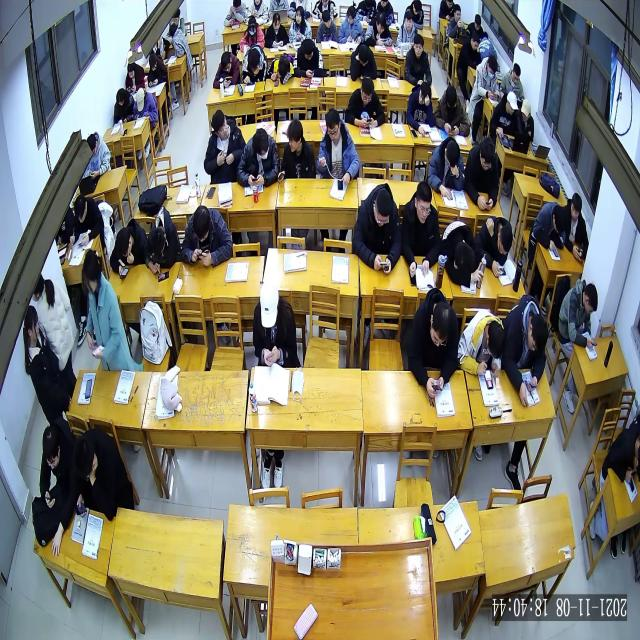bow: (440, 216, 482, 287), (144, 205, 180, 277), (476, 211, 514, 278), (109, 219, 147, 281), (282, 118, 316, 178), (529, 200, 566, 252), (349, 40, 378, 79), (213, 48, 240, 89), (364, 9, 392, 46), (266, 52, 295, 84), (222, 1, 247, 27)
down: (72, 434, 97, 485), (428, 300, 452, 348), (259, 277, 280, 329), (42, 421, 62, 473), (527, 311, 549, 352), (486, 318, 506, 361), (372, 189, 392, 229), (192, 205, 211, 244), (324, 106, 341, 142), (496, 224, 513, 258), (115, 227, 133, 259), (149, 226, 167, 258), (479, 136, 495, 172), (583, 282, 599, 318), (444, 139, 461, 170), (551, 204, 566, 236), (73, 194, 88, 225), (360, 77, 375, 106), (445, 84, 459, 112), (86, 132, 99, 160), (358, 42, 371, 68), (248, 46, 260, 74), (570, 192, 582, 220), (506, 89, 518, 117), (375, 9, 387, 36), (277, 56, 291, 79), (486, 55, 498, 81), (302, 38, 314, 63), (520, 96, 532, 121), (220, 49, 232, 72), (135, 88, 146, 112), (512, 63, 522, 86), (115, 86, 126, 106), (470, 30, 480, 50), (248, 17, 258, 36), (126, 60, 135, 80), (272, 10, 281, 30), (322, 10, 331, 30), (474, 10, 482, 30), (149, 51, 157, 70)
lookup: (414, 180, 433, 227), (413, 32, 424, 56), (404, 10, 414, 30), (295, 4, 304, 24), (453, 2, 462, 21)
sit: (81, 245, 134, 377), (404, 284, 460, 399), (71, 426, 134, 523), (22, 303, 72, 424), (38, 412, 78, 556), (501, 290, 549, 406), (351, 181, 402, 274), (251, 276, 301, 369), (399, 178, 441, 277), (457, 305, 507, 381), (180, 201, 233, 271), (316, 108, 361, 186), (202, 108, 246, 184), (557, 278, 600, 351), (464, 134, 501, 210), (236, 125, 280, 187), (427, 132, 466, 200), (601, 421, 640, 483), (344, 76, 386, 128), (433, 81, 471, 135), (69, 192, 104, 248), (564, 192, 589, 263), (406, 80, 434, 136), (488, 91, 519, 140), (404, 33, 432, 87), (85, 130, 112, 180), (474, 52, 500, 101), (241, 41, 268, 86), (293, 39, 324, 78), (337, 4, 365, 46), (456, 30, 482, 72), (500, 63, 526, 104), (133, 87, 158, 126), (240, 14, 265, 53), (396, 7, 419, 49), (288, 5, 312, 44), (146, 48, 169, 88), (264, 12, 289, 48), (114, 85, 134, 127), (168, 21, 191, 56), (316, 8, 338, 44), (518, 97, 534, 141), (125, 59, 145, 93), (448, 3, 465, 37), (468, 13, 484, 42)
